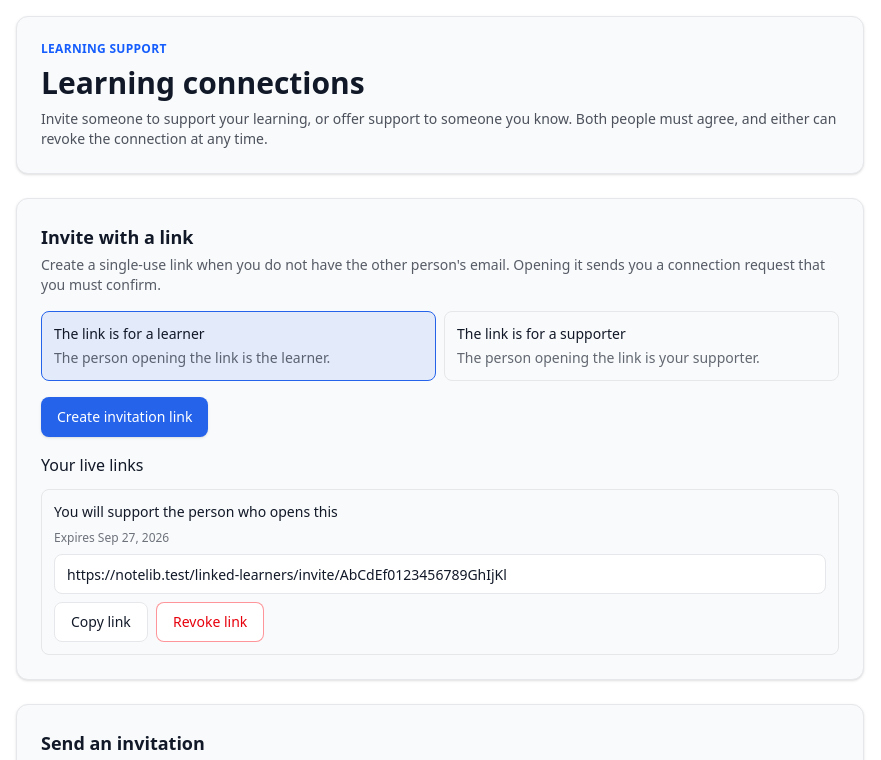
Scenario: keeps a live link visible when revocation fails
Expected: the field showing "https://notelib.test/linked-learners/invite/AbCdEf0123456789GhIjKl" is shown, [54, 554, 826, 594]
Click the button "Revoke link" at [210, 622], box [156, 602, 264, 642]
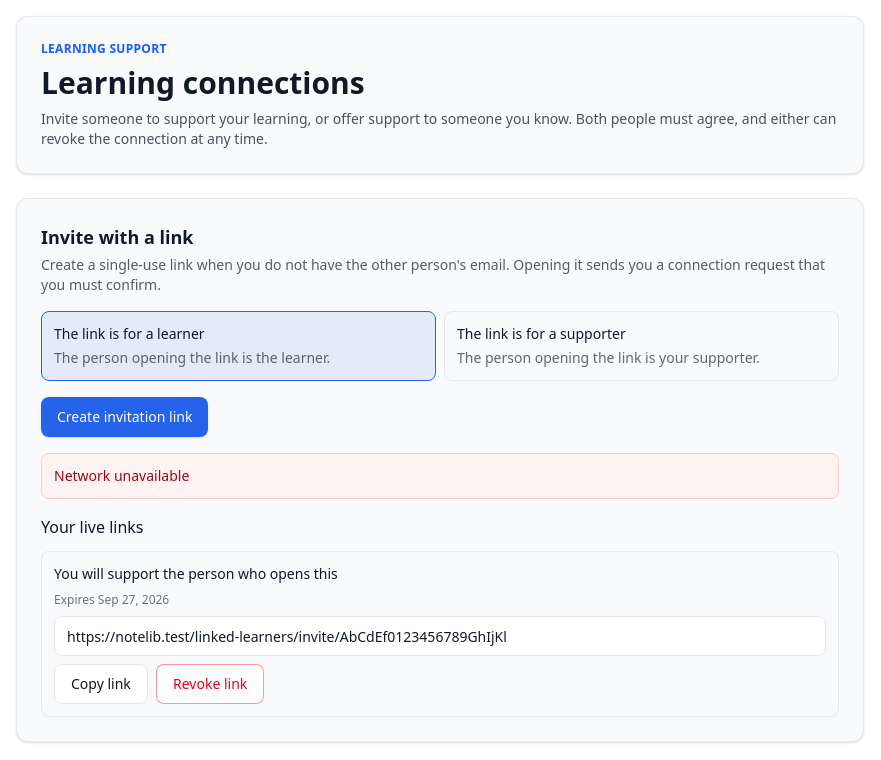
Expected: the field showing "https://notelib.test/linked-learners/invite/AbCdEf0123456789GhIjKl" is shown, [54, 616, 826, 656]
Expected: the message reads "Network unavailable", [54, 466, 189, 485]
